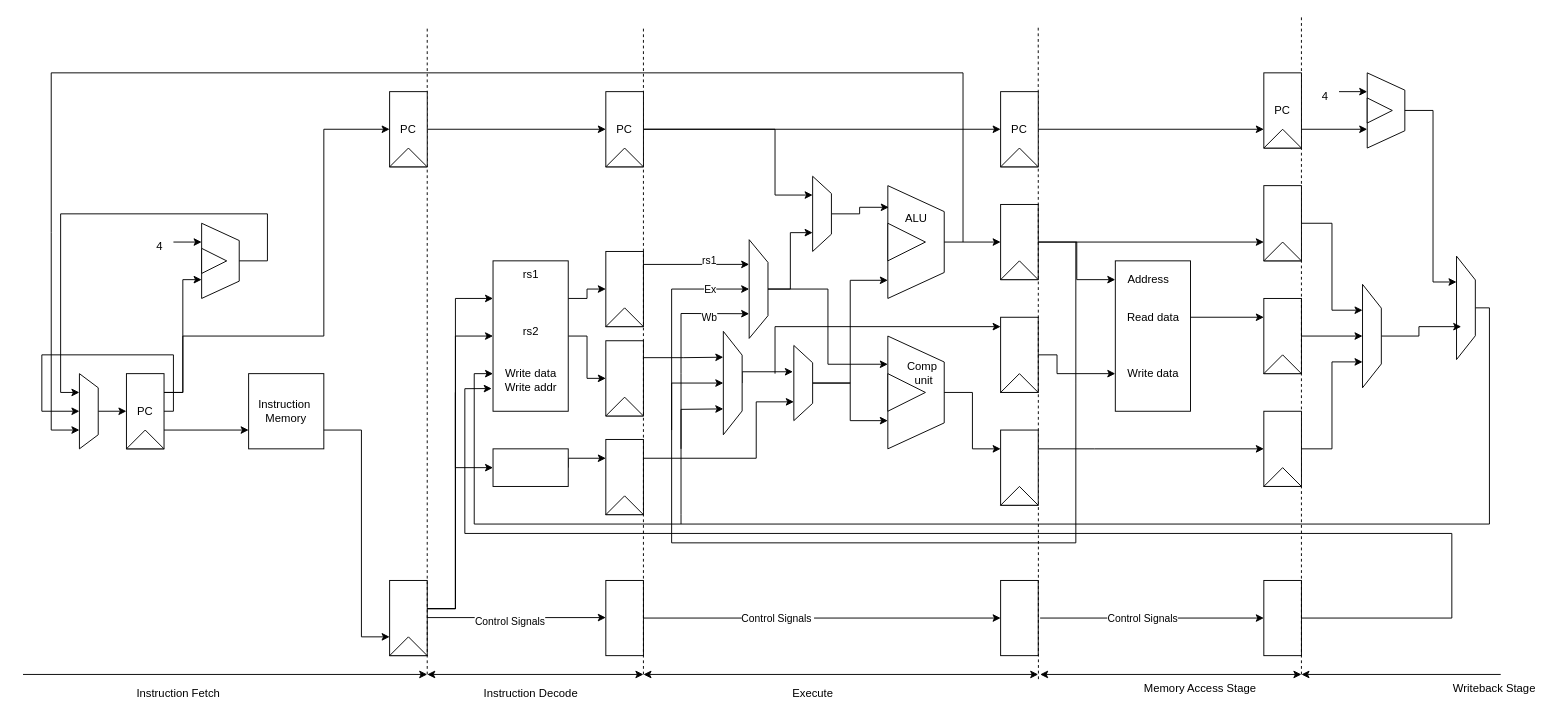
Some shapes in this 1562 by 724 pixel diagram are drawn without their labels. Each missing label, with the box of its shape:
Immediate/ Sign Extender: (492, 448, 568, 486)
IR: (389, 580, 427, 656)
